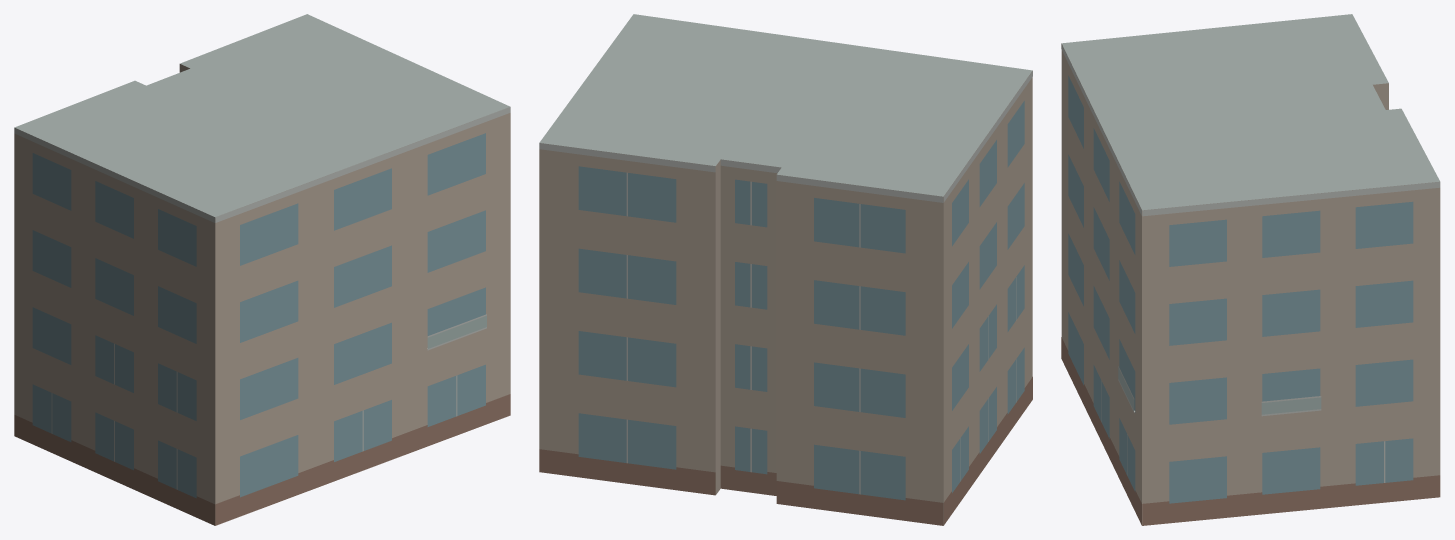
The model's file is survey-upis-32741405.glb.
3 renders of one model, left to right at view 1: azimuth 30°, elevation 25°; view 2: azimuth 150°, elevation 25°; view 3: azimuth 270°, elevation 25°, orthographic. The views are drawn at different scales.
Visible parts, largest first — view 1: survey-upis-32741405.tmp; view 2: survey-upis-32741405.tmp; view 3: survey-upis-32741405.tmp.
Boxes of the visible parts, left/top/right/bottom form: survey-upis-32741405.tmp: left=14, top=14, right=510, bottom=525; survey-upis-32741405.tmp: left=539, top=14, right=1032, bottom=525; survey-upis-32741405.tmp: left=1061, top=14, right=1440, bottom=525.
Bounding box in the file's own units: 16.95 × 12.7 × 13.83.
